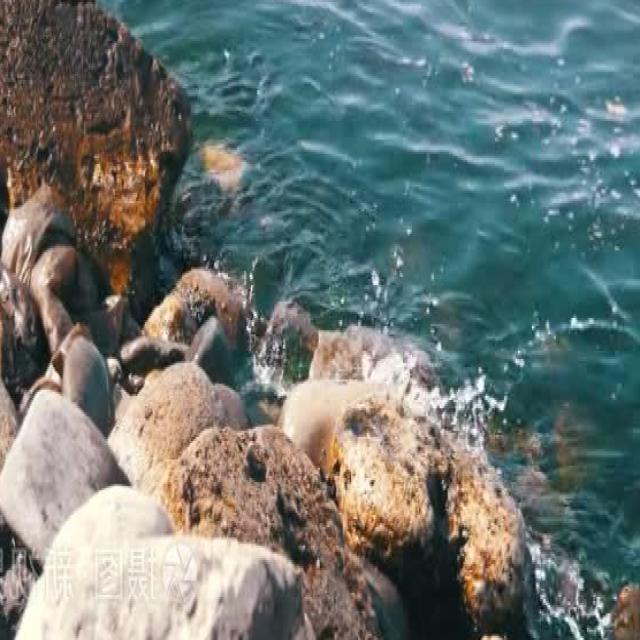reef: (233, 277, 500, 583), (0, 45, 190, 318)
